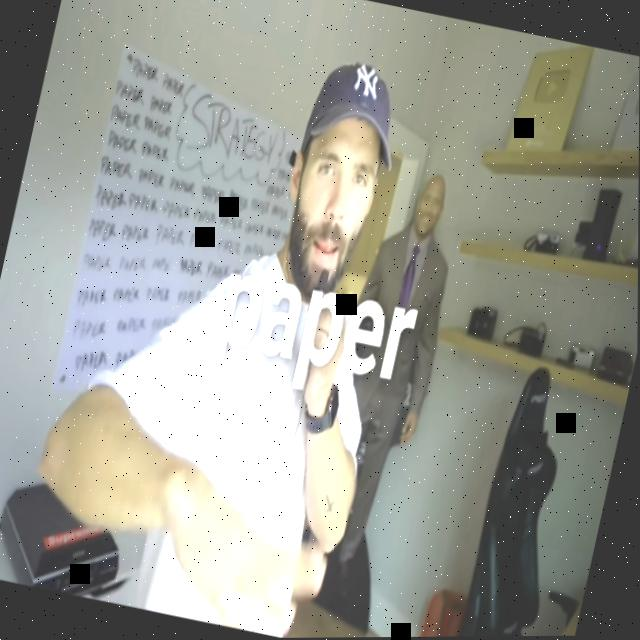Paper: (146, 459, 342, 639)
